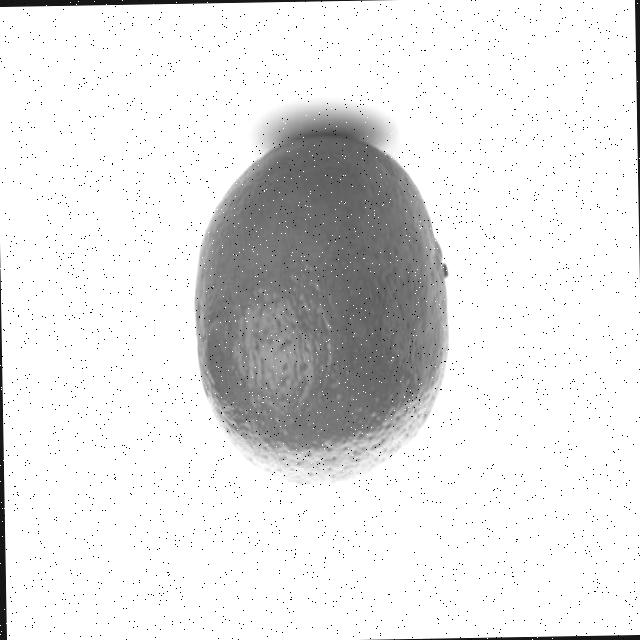Unripe: (189, 129, 452, 489)
